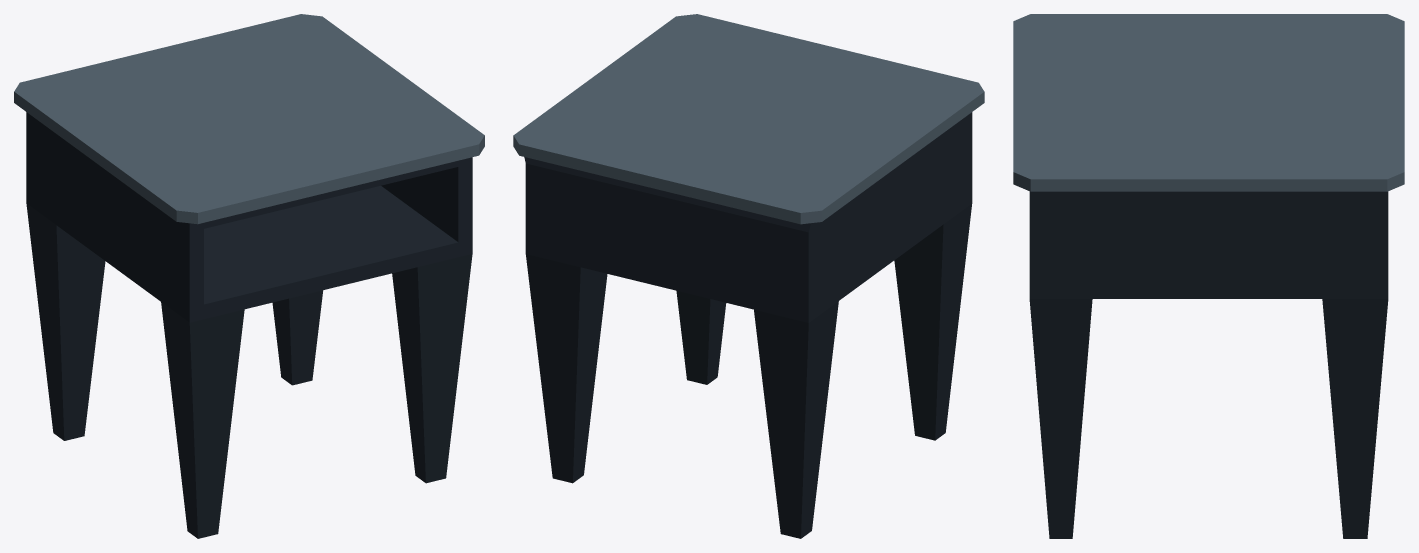
The model's file is drawer_legged.fbx.
The picture shows the model from 3 angles, left to right: view 1: azimuth 30°, elevation 25°; view 2: azimuth 150°, elevation 25°; view 3: azimuth 270°, elevation 25°; orthographic projection. The views are drawn at different scales.
Parts seen in each view (by area): view 1: drawer; view 2: drawer; view 3: drawer.
Part boxes in pixels (left/top/right/bottom): drawer: left=14, top=14, right=484, bottom=538; drawer: left=513, top=14, right=984, bottom=538; drawer: left=1013, top=14, right=1404, bottom=538.
Bounding box in the file's own units: 109 × 116 × 109.
